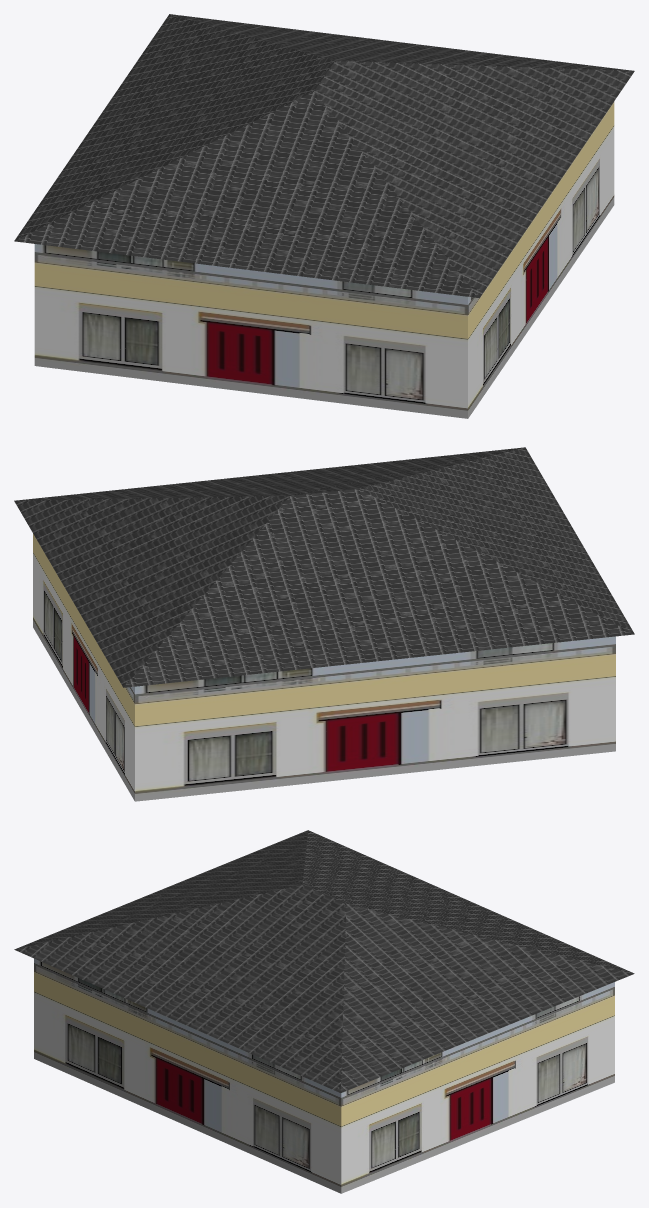
3 renders of one model, top to bottom at view 1: azimuth 30°, elevation 25°; view 2: azimuth 150°, elevation 25°; view 3: azimuth 270°, elevation 25°, orthographic. The views are drawn at different scales.
Visible parts, largest first — view 1: CityEngineMaterial_16_m, CityEngineMaterial_15_m; view 2: CityEngineMaterial_16_m, CityEngineMaterial_15_m; view 3: CityEngineMaterial_16_m, CityEngineMaterial_15_m.
Boxes of the visible parts, box(x1,y1,x2,y2) form: CityEngineMaterial_16_m: box(14, 14, 634, 298); CityEngineMaterial_15_m: box(34, 101, 614, 418); CityEngineMaterial_16_m: box(14, 447, 634, 687); CityEngineMaterial_15_m: box(33, 534, 615, 801); CityEngineMaterial_16_m: box(14, 830, 634, 1092); CityEngineMaterial_15_m: box(34, 958, 614, 1193).
Size of the model in its own units: 41.47 by 12.96 by 41.35.
